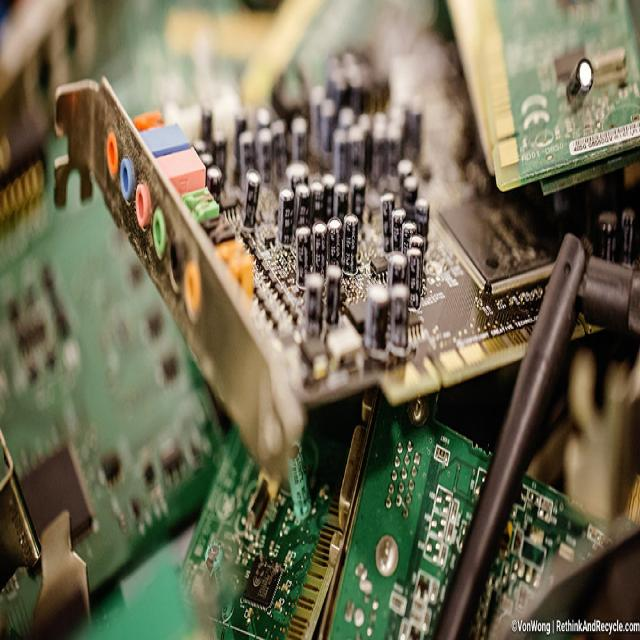Hazard: (9, 0, 640, 640)
